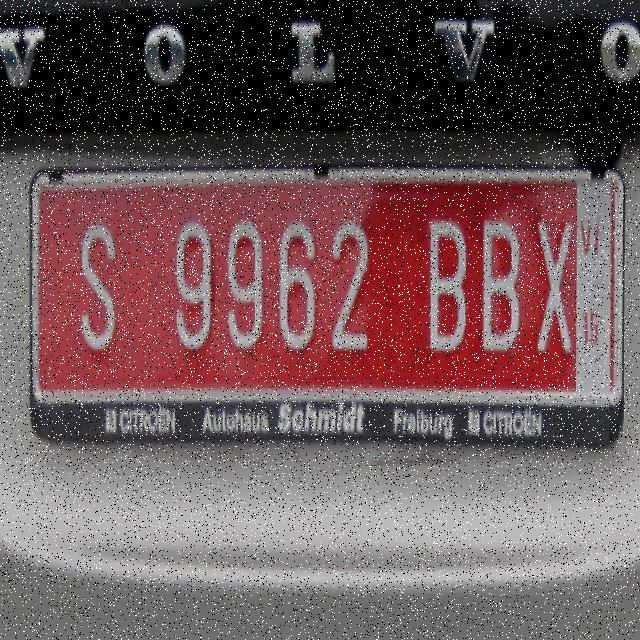licenseplate: (19, 126, 631, 485)
